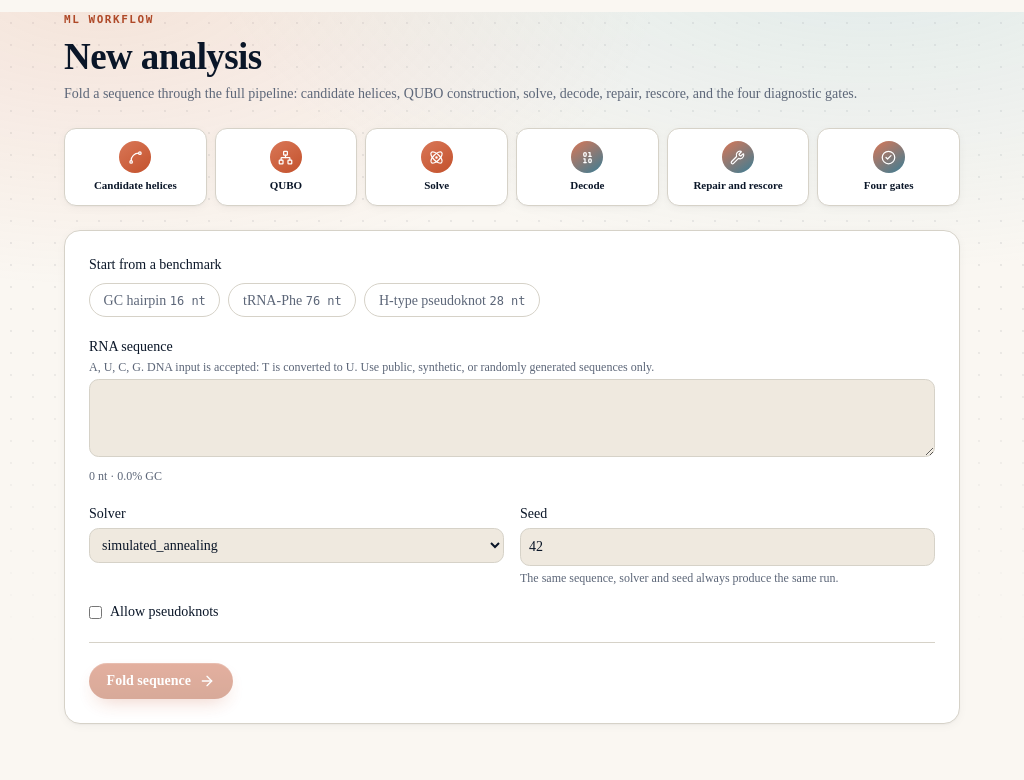
Scenario: analysis wizard › warns that pseudoknot mode changes what the F1 is measured against
The image size is (1024, 780).
Click the checkbox labelled "Allow pseudoknots" at (96, 612), box [89, 606, 102, 619]
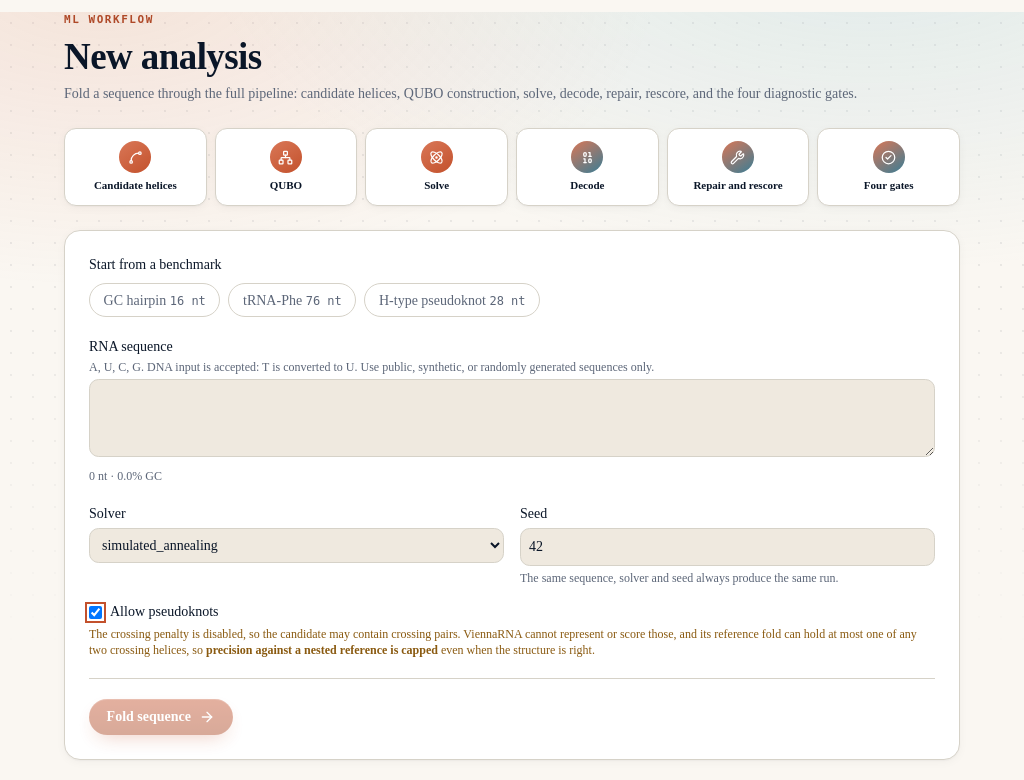
Expected: the text "precision against a nested reference is capped" is shown, [206, 643, 438, 657]
